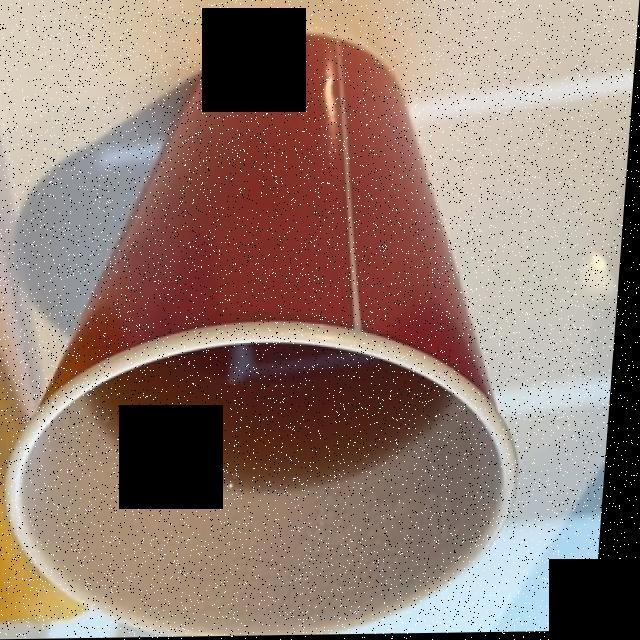tea: (90, 343, 443, 495)
